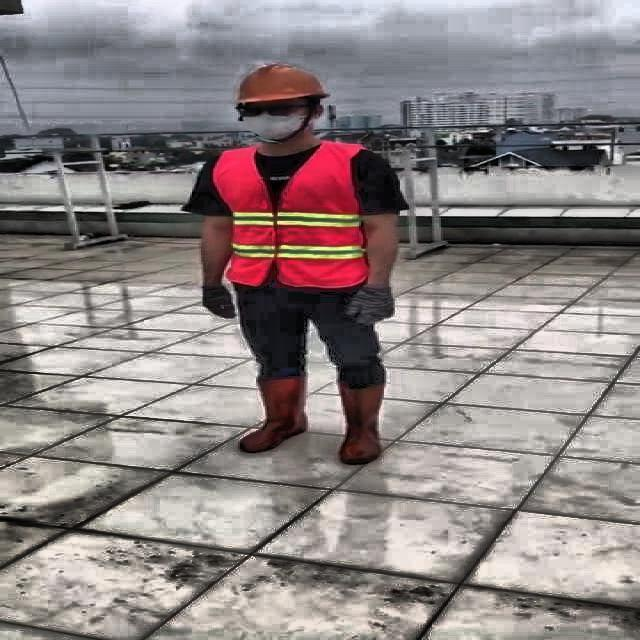safety_helmet: (227, 61, 330, 104)
safety_jacket: (214, 139, 374, 289)
